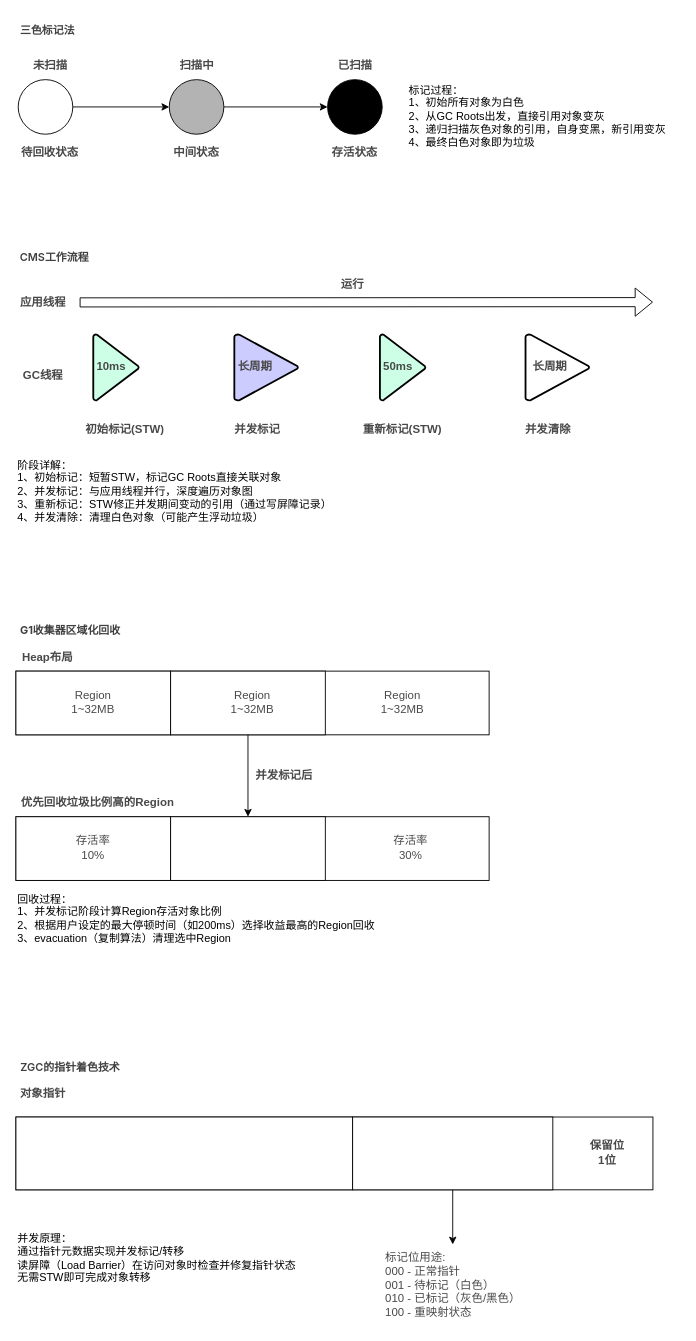
Some shapes in this 696 by 1341 pixel diagram are drawn without their labels. The shapes that lost their labels are listed below. From the top down, each one's centre as x and y in pixels, then its label:
At (x=247, y=848): "存活率 80%".
At (x=184, y=1153): "地址 4~63位".
At (x=452, y=1153): "标记位 3位".
